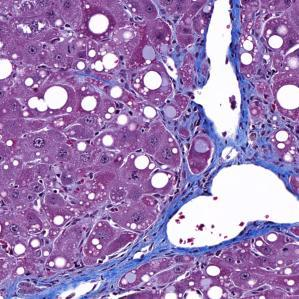fibrosis: (46, 241, 175, 294), (171, 116, 272, 168)
